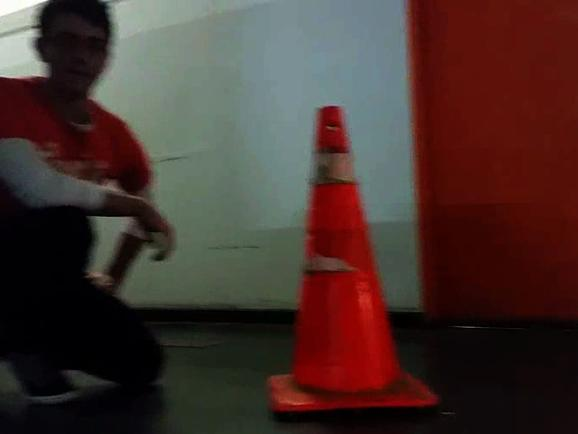0 cone: (264, 105, 439, 415)
